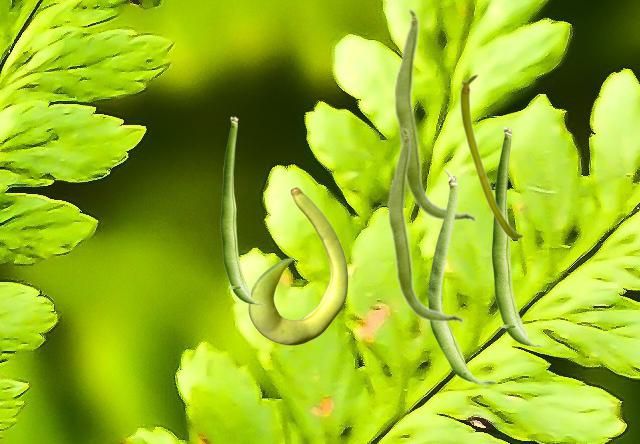french_bean: (392, 7, 477, 222), (248, 187, 347, 344), (386, 126, 464, 323), (428, 169, 495, 384), (491, 126, 543, 346), (459, 73, 523, 239), (220, 116, 264, 304)
